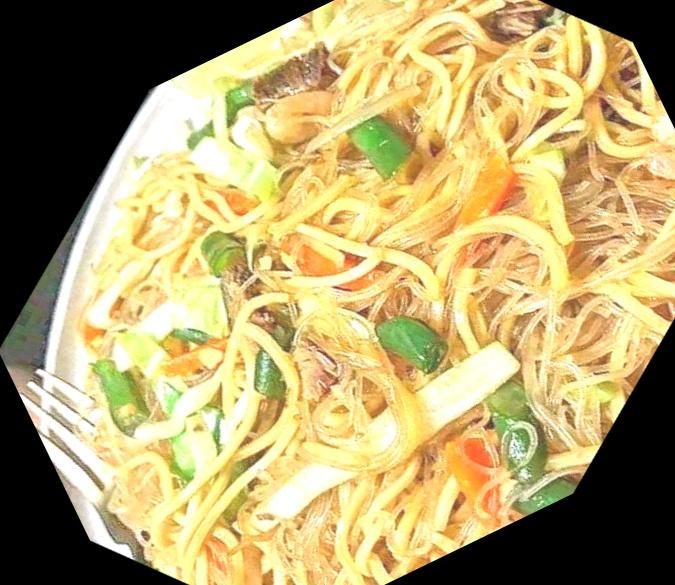pancit bihon: (85, 0, 674, 584)
